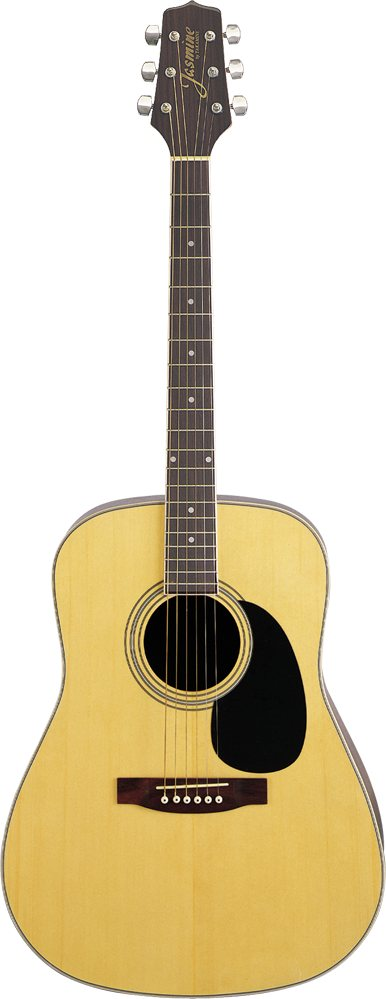guitar: (3, 3, 384, 998)
